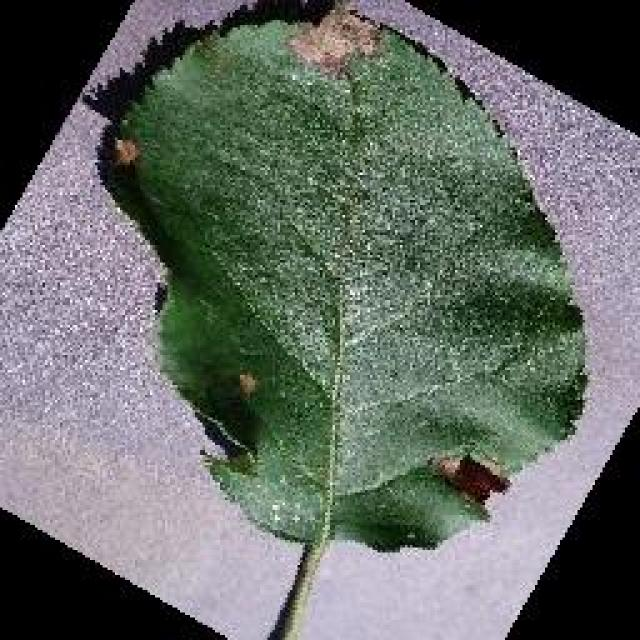apple black rot: (97, 0, 590, 552)
